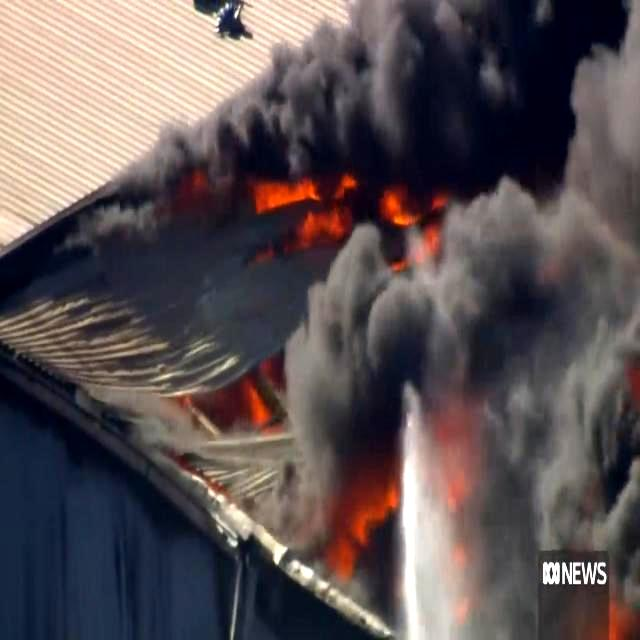fire: (252, 178, 322, 208), (244, 366, 286, 414), (382, 194, 420, 236), (358, 504, 398, 534)
